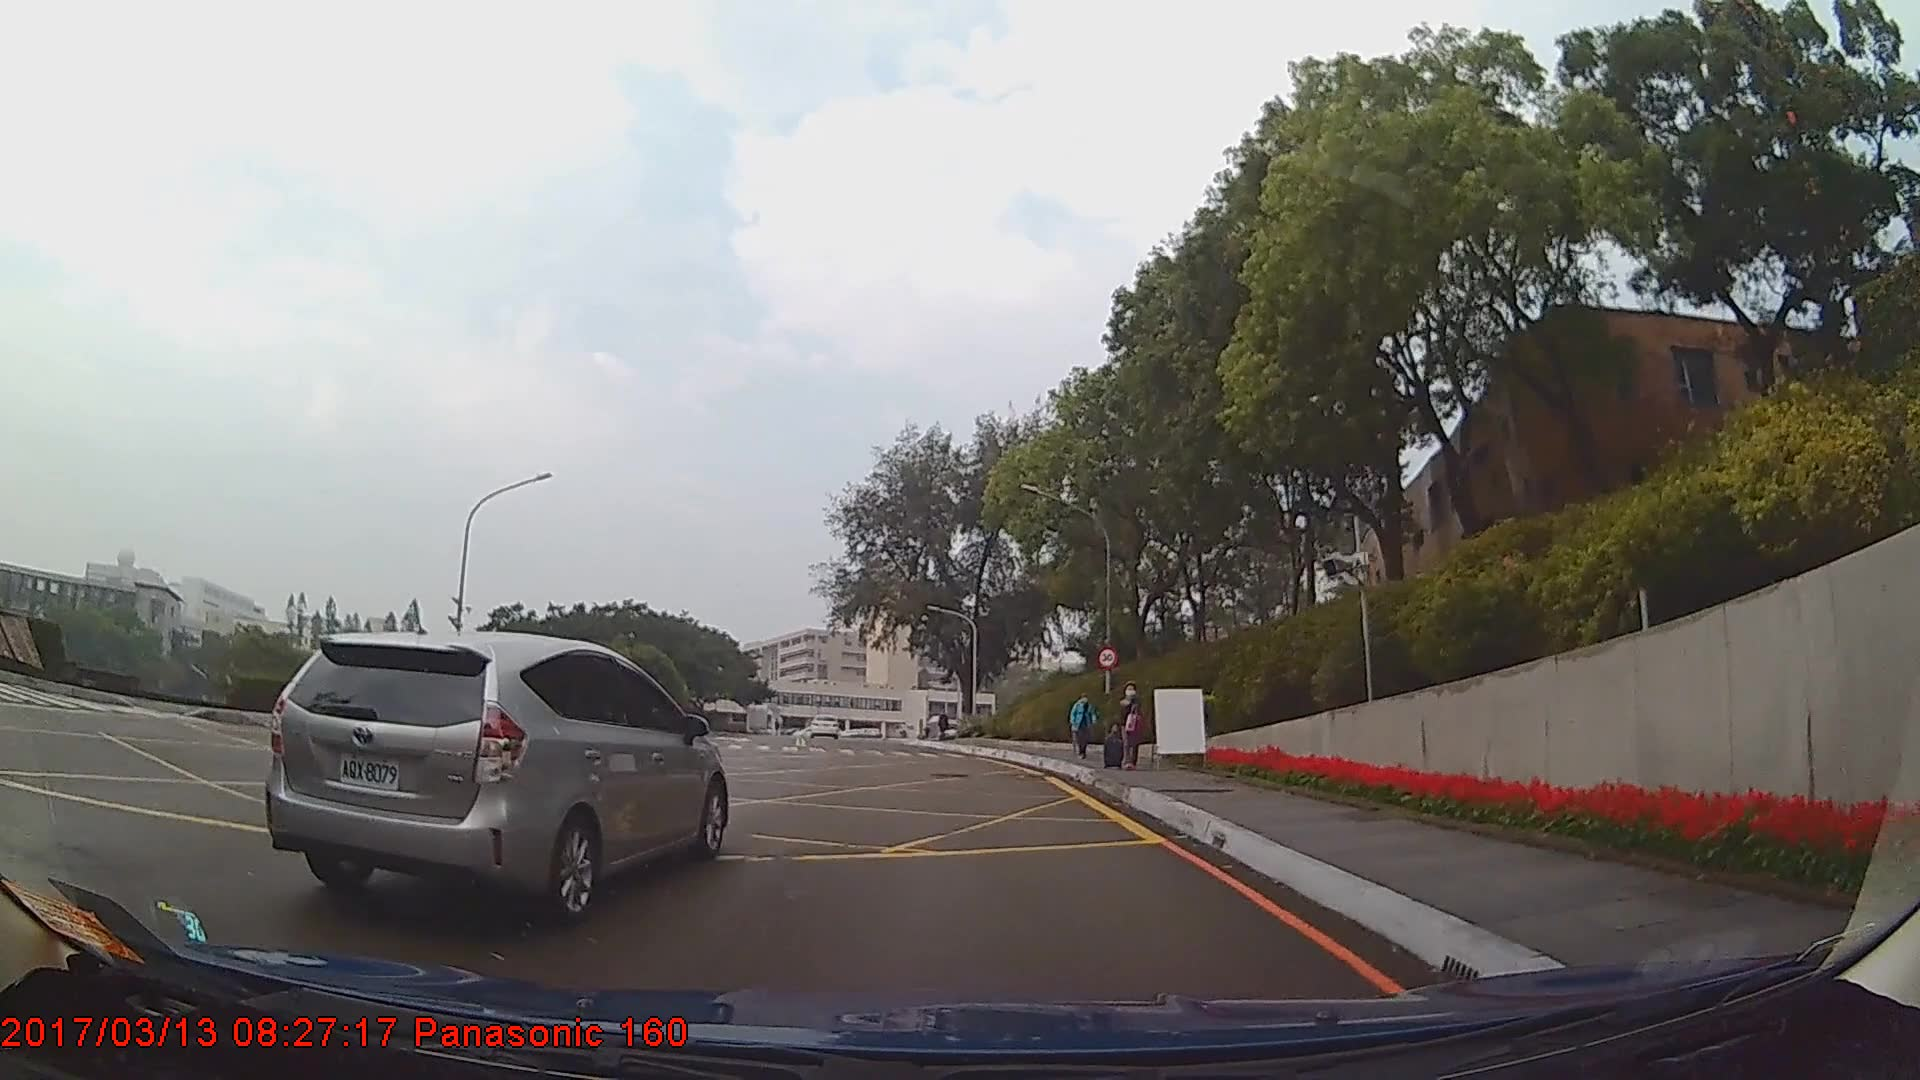pedestrian: (1106, 684, 1148, 771), (1070, 691, 1098, 764)
vehicle: (261, 629, 733, 928), (808, 713, 842, 740)
